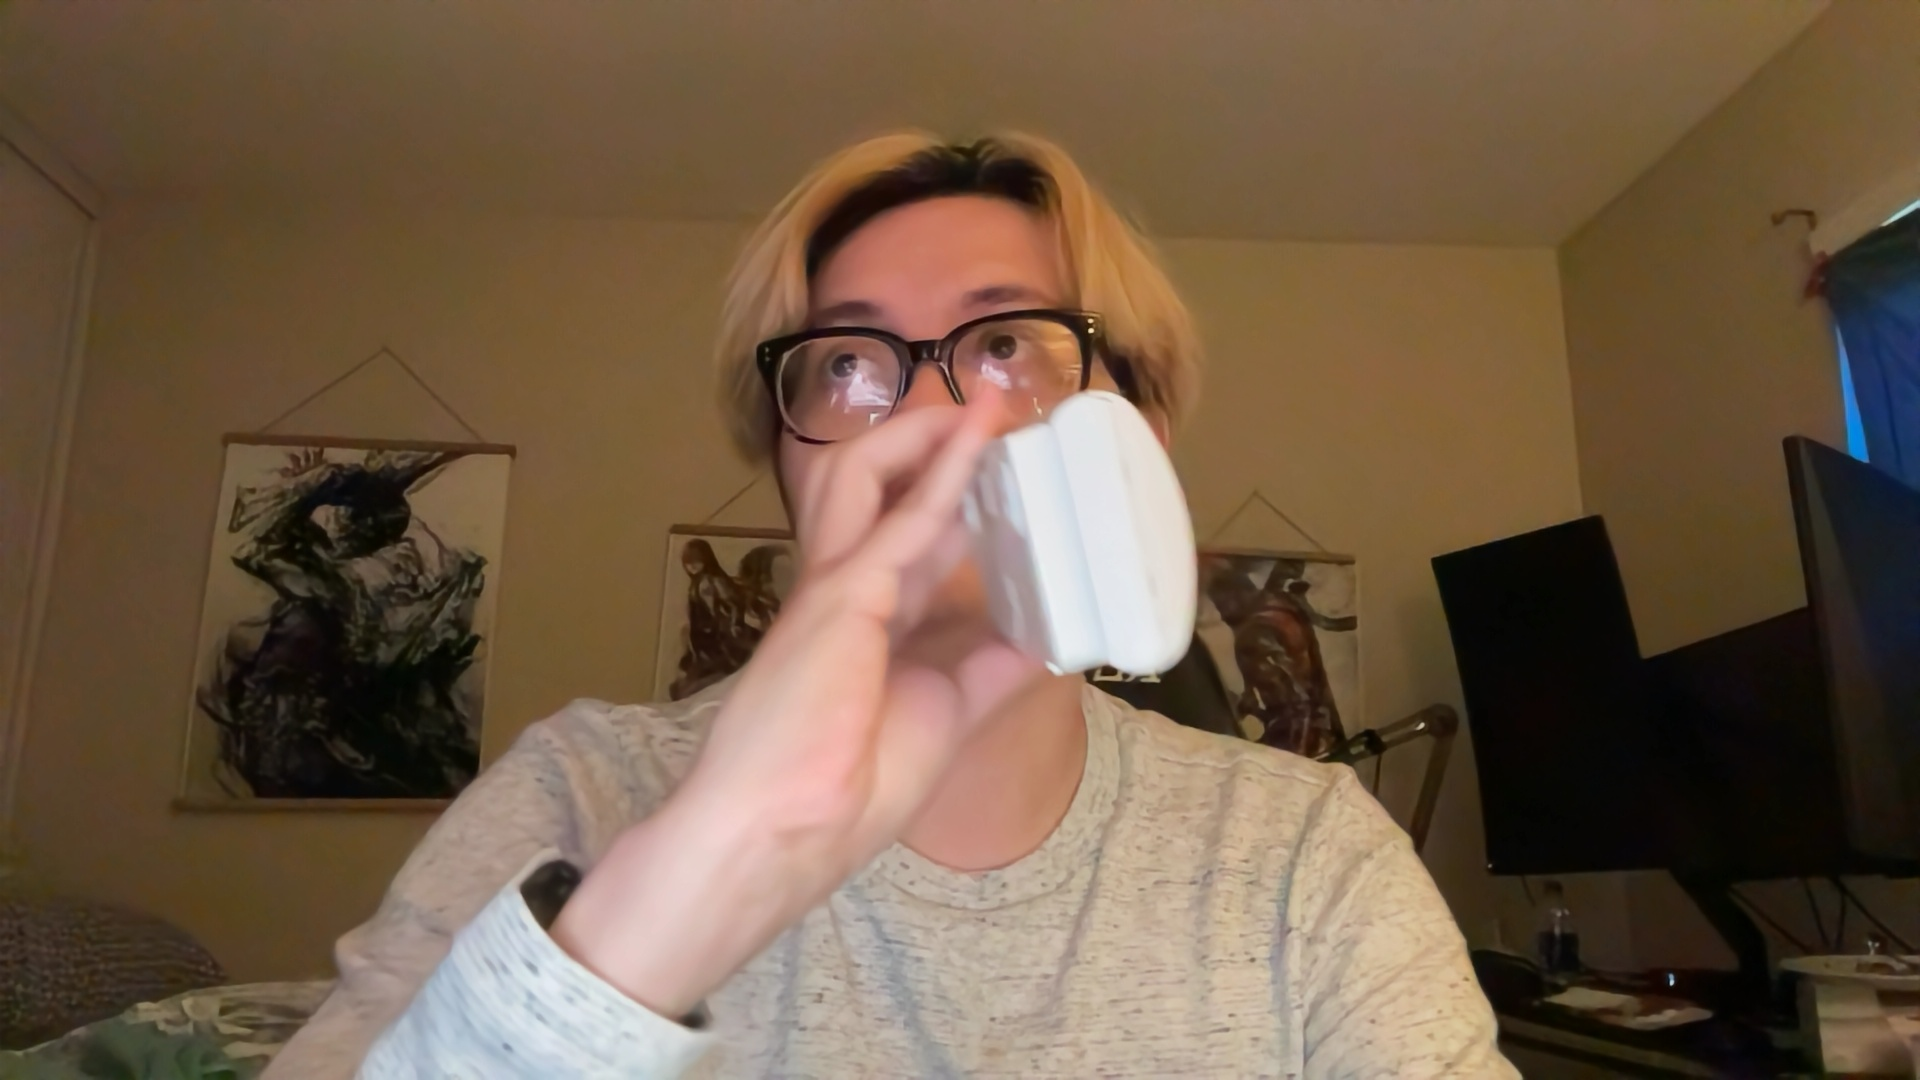carbonmonitor: (967, 377, 1216, 686)
